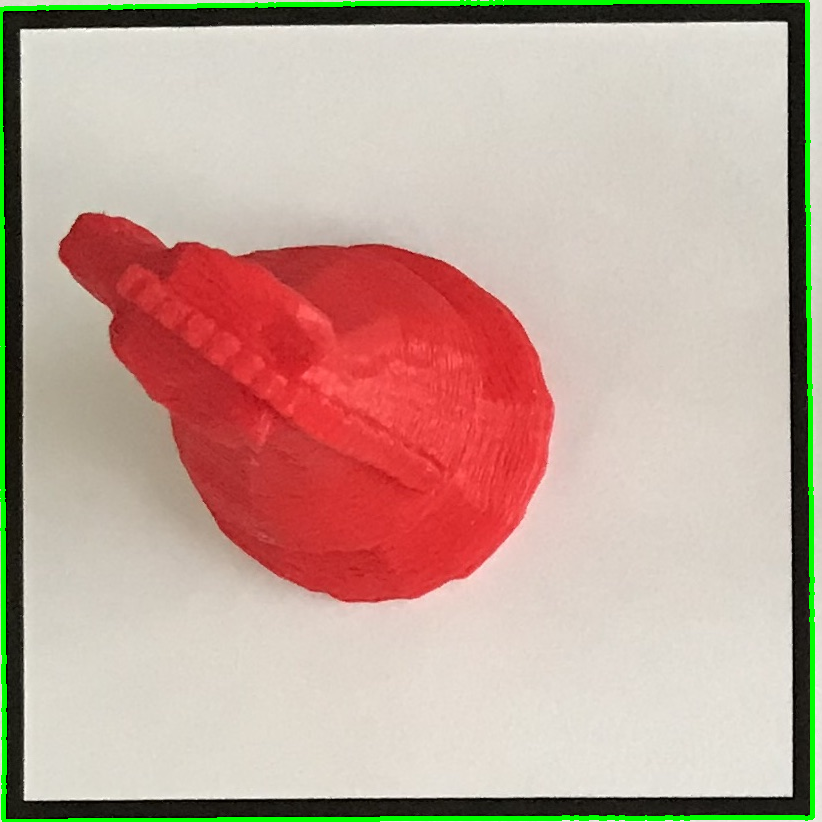Red Knight: (32, 168, 567, 617)
